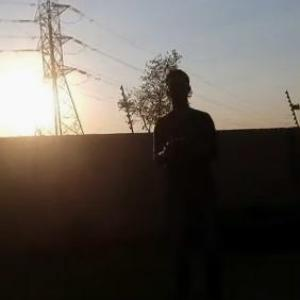follow: (150, 60, 239, 299)
